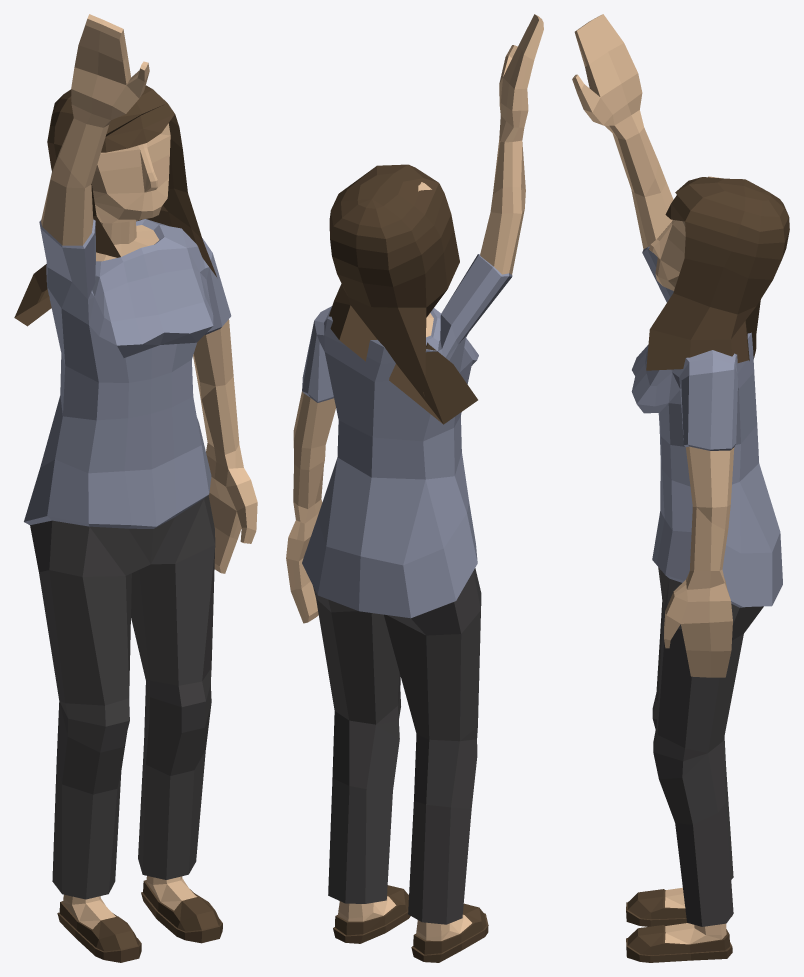
Rendered from Female_Crowd_FistPump.glb.
3 renders of one model, left to right at view 1: azimuth 30°, elevation 25°; view 2: azimuth 150°, elevation 25°; view 3: azimuth 270°, elevation 25°, orthographic. The views are drawn at different scales.
Parts seen in each view (by area): view 1: Female_Crowd_FistPump; view 2: Female_Crowd_FistPump; view 3: Female_Crowd_FistPump.
Boxes of the visible parts, bbox=[...] form: Female_Crowd_FistPump: bbox=[14, 14, 257, 962]; Female_Crowd_FistPump: bbox=[286, 14, 543, 962]; Female_Crowd_FistPump: bbox=[572, 14, 789, 962].
Bounding box in the file's own units: 0.4462 × 1.94 × 0.4349.
